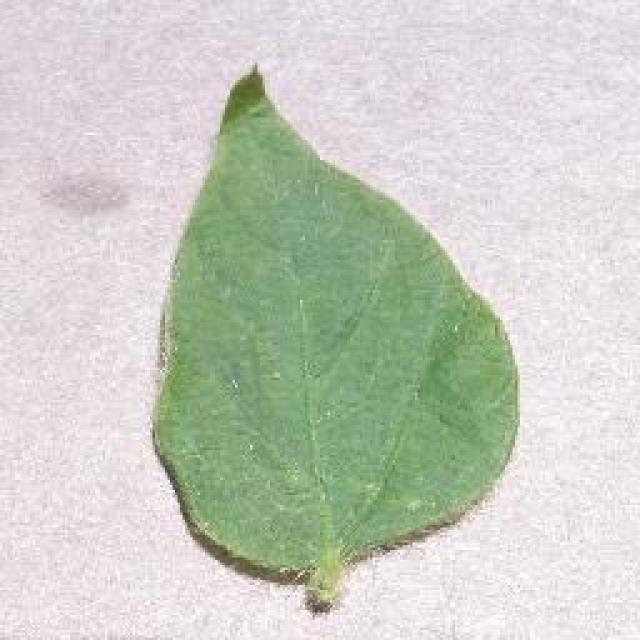Soy_healthy: (154, 82, 512, 554)
